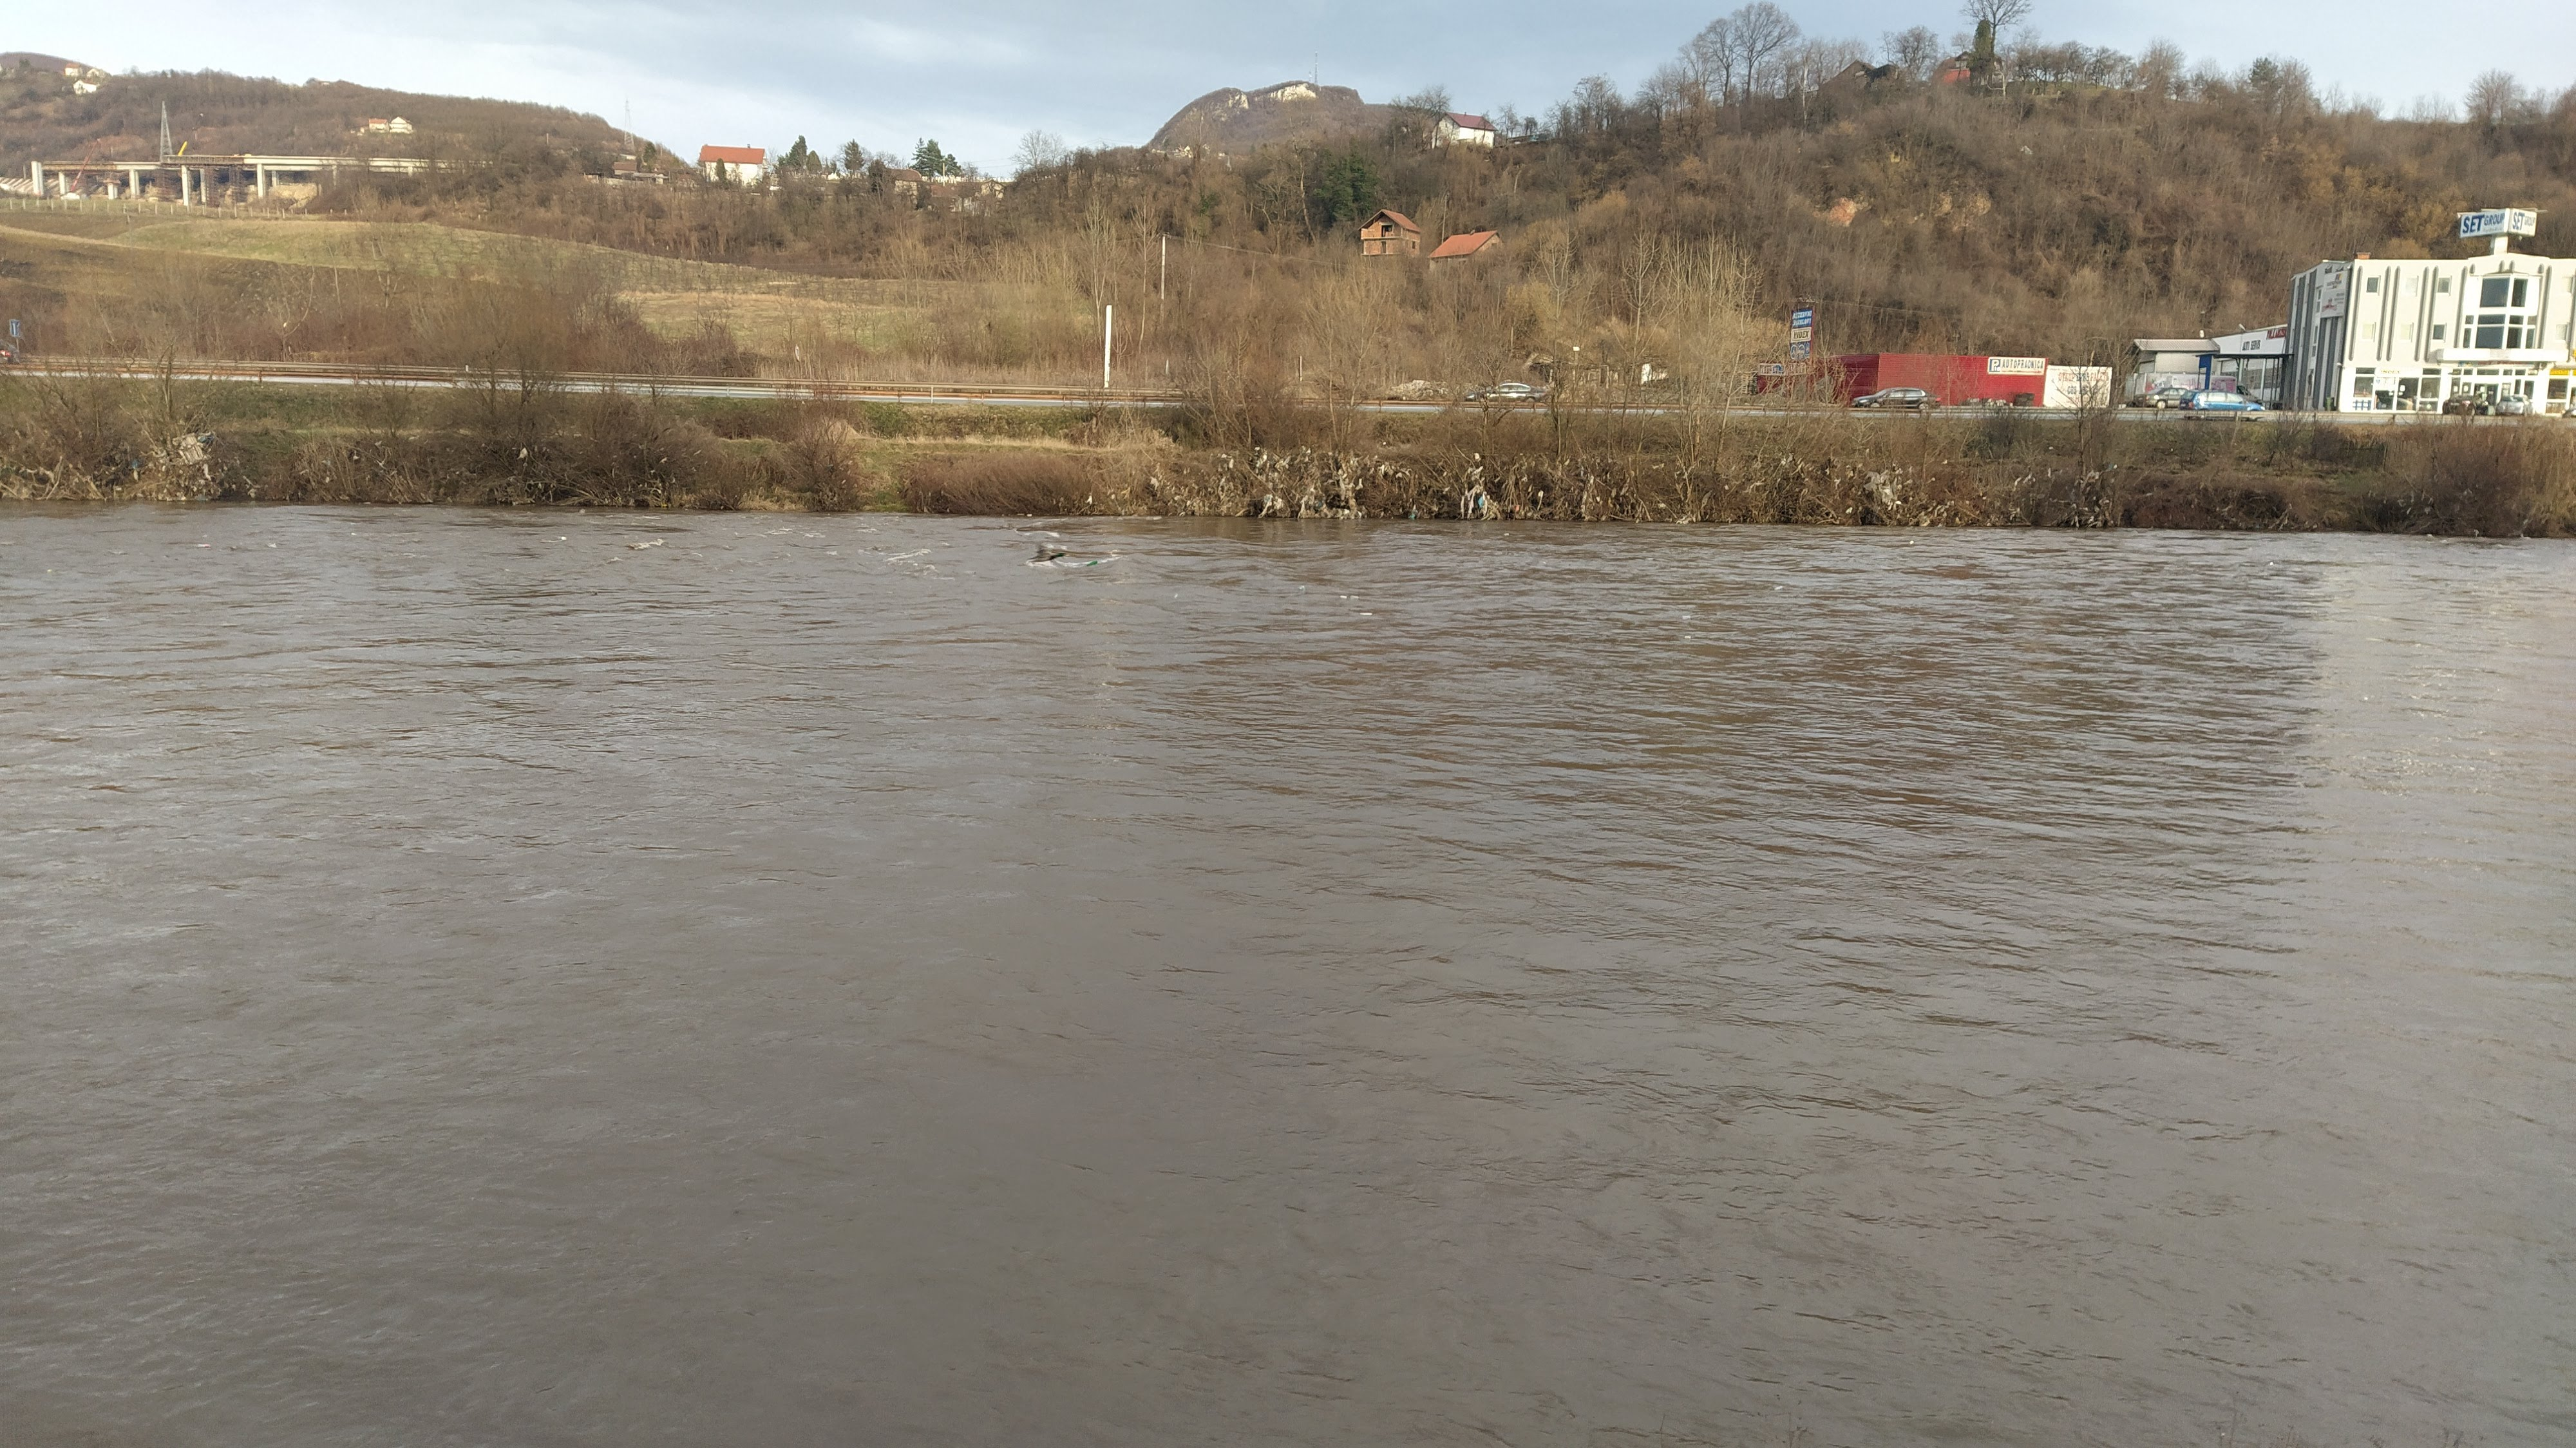Plastic Bottle: (1086, 559, 1099, 565), (1361, 611, 1373, 616), (198, 543, 211, 547), (1339, 593, 1346, 598), (1775, 584, 1782, 589), (1683, 614, 1691, 618), (1154, 515, 1161, 519), (1352, 595, 1359, 598), (1684, 635, 1691, 639), (1299, 586, 1304, 589), (1909, 540, 1913, 543)
